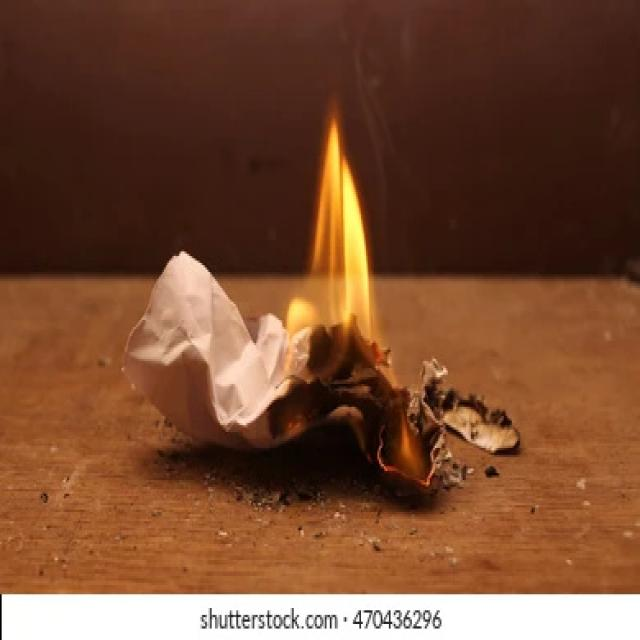fire: (282, 103, 394, 384), (392, 414, 423, 480)
